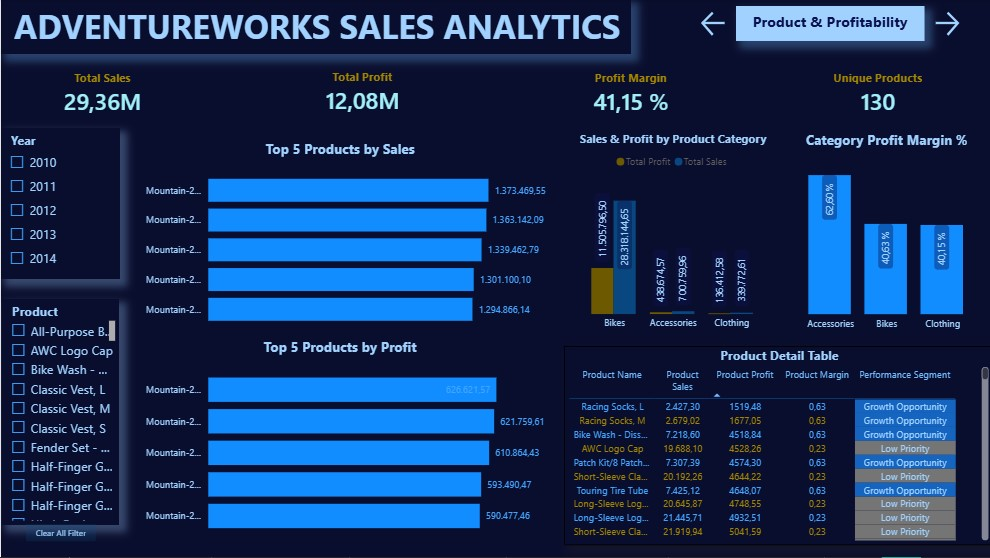

The dashboard page shown, as its layout file describes it:
{"tool":"powerbi","page":{"name":"Product & Profitability","canvas":[1280,720],"ordinal":3},"visuals":[{"type":"group","id":"g1","title":"Group 1","box":[1.5,71.3,1278.5,97.5],"z":0},{"type":"cardVisual","fields":{"Data":["sales_featured.Profit Margin %"]},"box":[679.1,73,268.5,96],"z":0,"group":"g1"},{"type":"textbox","box":[0,0,813.1,71.3],"z":1000},{"type":"cardVisual","fields":{"Data":["sales_featured.Total Sales"]},"box":[1.5,72.4,259.7,96],"z":2000,"group":"g1"},{"type":"slicer","fields":{"Values":["DimDate.Year"]},"box":[0,165.8,152.7,194.9],"z":2000},{"type":"cardVisual","fields":{"Data":["sales_featured.Total Profit"]},"box":[268.1,71.3,396.1,96],"z":3000,"group":"g1"},{"type":"slicer","fields":{"Values":["sales_featured.ProductName"]},"box":[1.5,386.9,151.3,290.9],"z":3000},{"type":"textbox","box":[948.4,8.7,242.9,45.1],"z":4000},{"type":"cardVisual","fields":{"Data":["sales_featured.Unique Products"]},"box":[985.2,72.4,294.9,96],"z":4000,"group":"g1"},{"type":"clusteredColumnChart","title":"Sales & Profit  by Product Category","fields":{"Category":["sales_featured.ProductCategoryName"],"Y":["sales_featured.Total Profit","sales_featured.Total Sales"]},"box":[725.8,170.2,282.2,266.2],"z":5000},{"type":"clusteredBarChart","title":"Top 5 Products by Sales","fields":{"Category":["sales_featured.ProductName"],"Y":["sales_featured.Total Sales"]},"box":[165.8,180.4,542.5,256],"z":7000},{"type":"clusteredBarChart","title":"Top 5 Products by Profit","fields":{"Category":["sales_featured.ProductName"],"Y":["sales_featured.Total Profit"]},"box":[165.8,436.4,542.5,269.1],"z":8000},{"type":"clusteredColumnChart","title":"Category Profit Margin %","fields":{"Category":["sales_featured.ProductCategoryName"],"Y":["sales_featured.Profit Margin %"]},"box":[1008,168.7,270.5,267.6],"z":9000},{"type":"actionButton","box":[1200,11.6,43.6,40.7],"z":10000},{"type":"actionButton","box":[897.5,11.6,43.6,40.7],"z":11000},{"type":"actionButton","box":[32,677.8,89.9,22.2],"z":12000},{"type":"tableEx","title":"Product Detail Table","fields":{"Values":["Product Analysis.ProductName","Product Analysis.Product Sales","Product Analysis.Product Profit","Product Analysis.Product Margin","Product Analysis.Performance Segment"]},"box":[725.8,448,554.2,257.5],"z":13000}]}

Visuals, with their boxes in screenshot pixels (x1, y1, x2, y2), scaled from the page's 1280x720 canvas onto the 990x558 screenshot:
"Group 1" group: BBox(1, 55, 989, 131)
cardVisual - sales_featured.Profit Margin %: BBox(525, 57, 733, 131)
textbox: BBox(0, 0, 629, 55)
cardVisual - sales_featured.Total Sales: BBox(1, 56, 202, 131)
slicer - DimDate.Year: BBox(0, 128, 118, 280)
cardVisual - sales_featured.Total Profit: BBox(207, 55, 514, 130)
slicer - sales_featured.ProductName: BBox(1, 300, 118, 525)
textbox: BBox(734, 7, 921, 42)
cardVisual - sales_featured.Unique Products: BBox(762, 56, 989, 131)
"Sales & Profit  by Product Category" clusteredColumnChart: BBox(561, 132, 780, 338)
"Top 5 Products by Sales" clusteredBarChart: BBox(128, 140, 548, 338)
"Top 5 Products by Profit" clusteredBarChart: BBox(128, 338, 548, 547)
"Category Profit Margin %" clusteredColumnChart: BBox(780, 131, 989, 338)
actionButton: BBox(928, 9, 962, 41)
actionButton: BBox(694, 9, 728, 41)
actionButton: BBox(25, 525, 94, 542)
"Product Detail Table" tableEx: BBox(561, 347, 989, 547)
